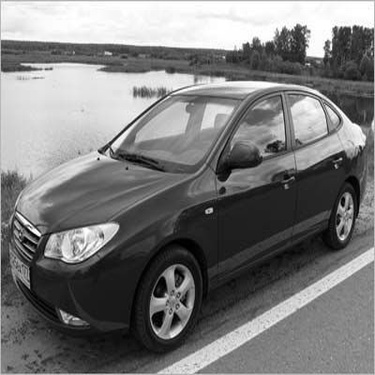car: (1, 76, 368, 358)
